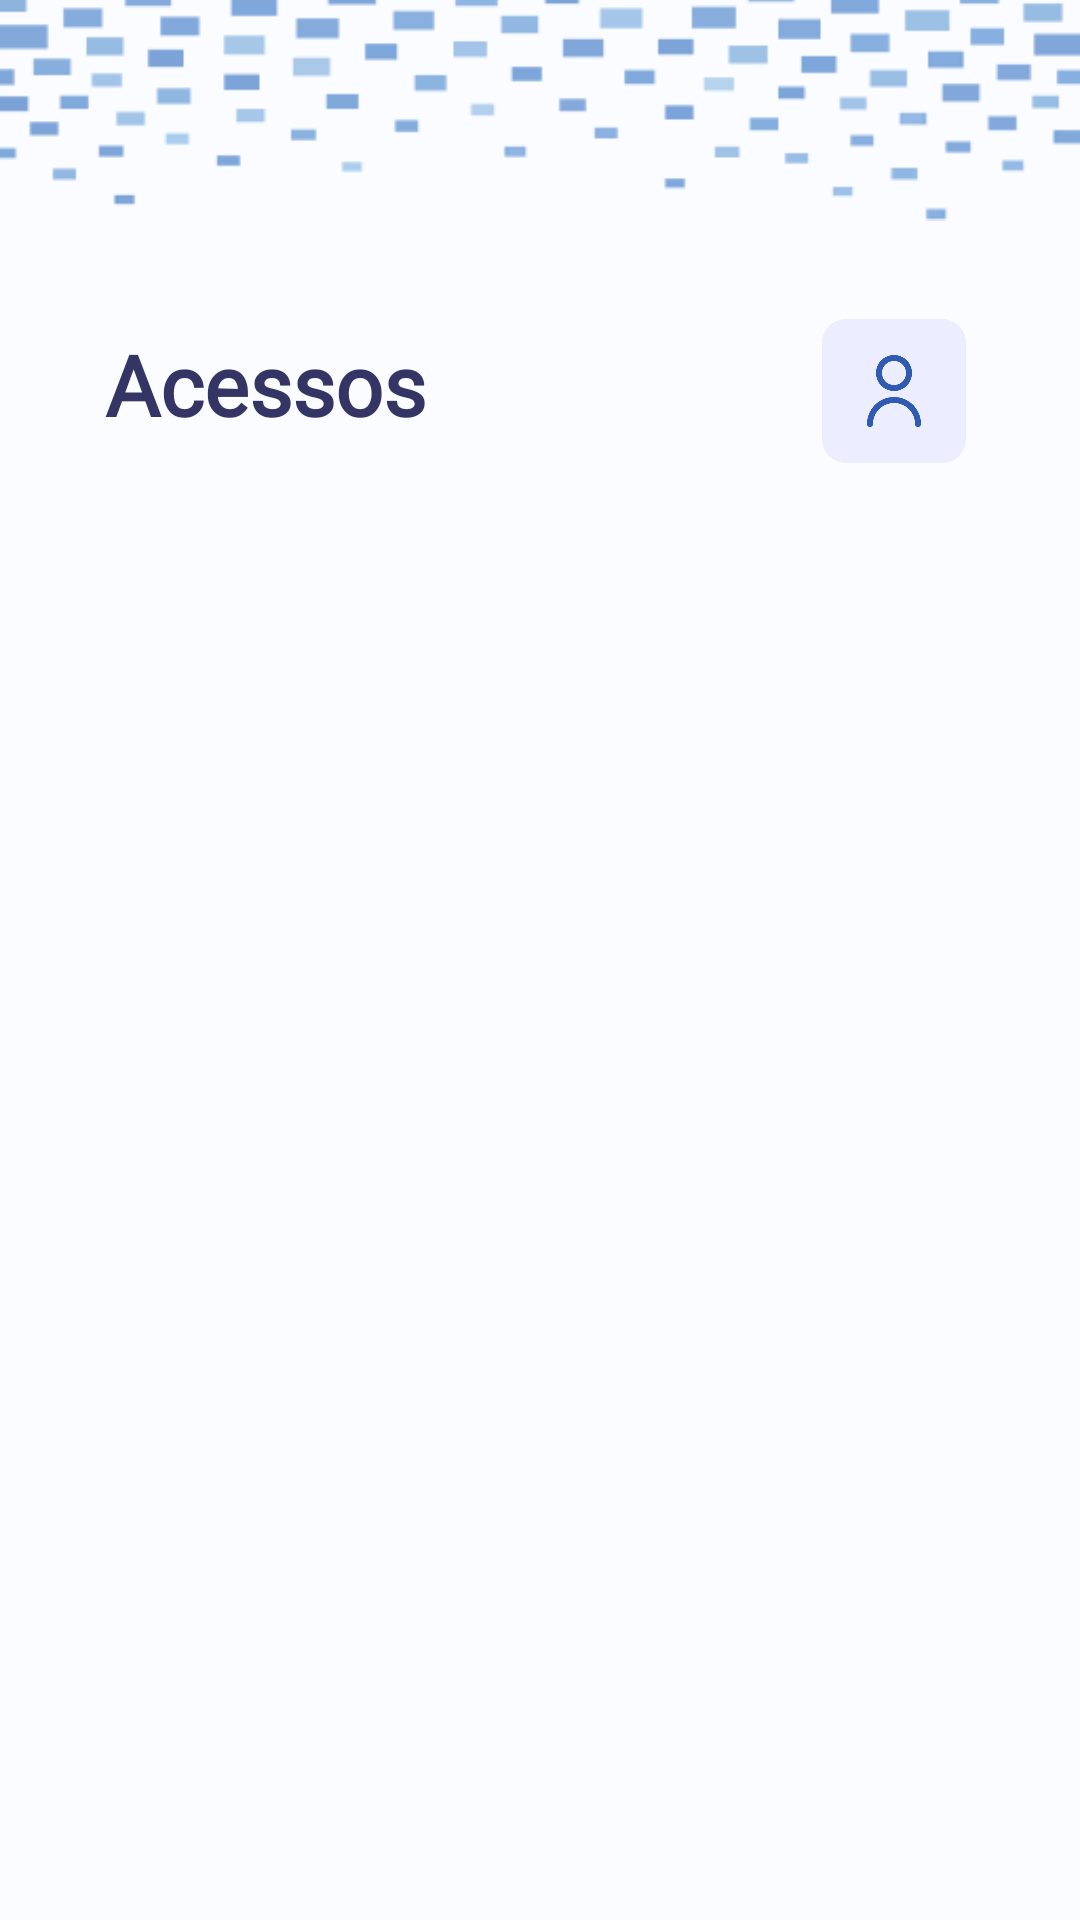

Point at icon controls on the screen. Image size 1080px x 1920px, points as [x,y].
perfil: [894,391]
